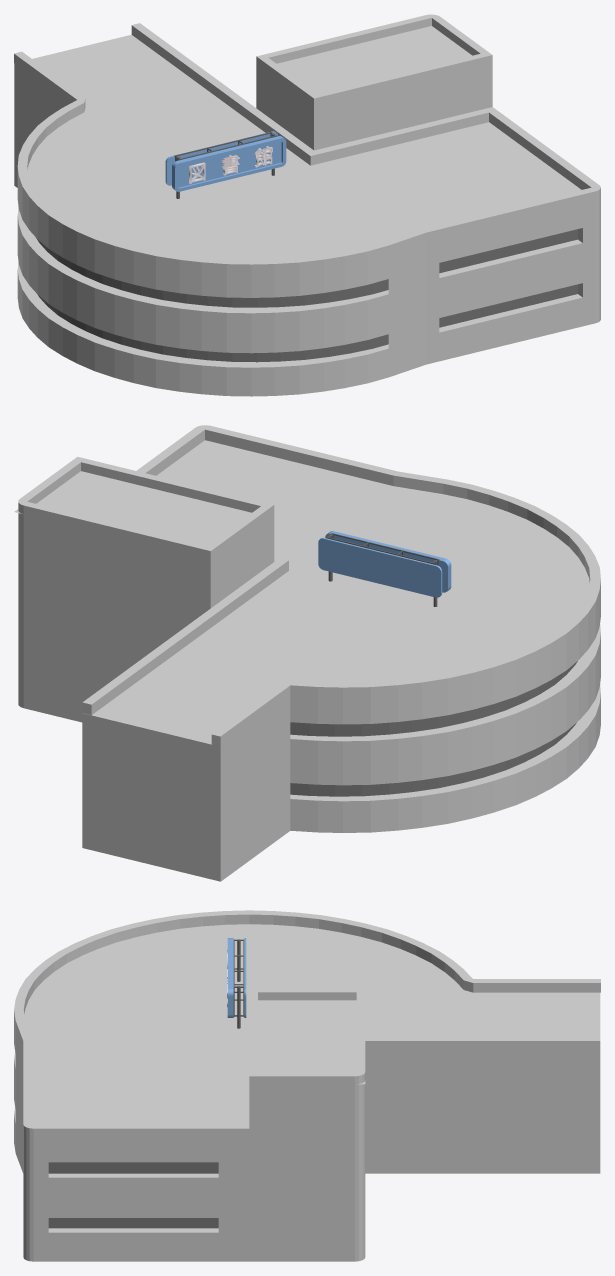
Rendered from map_library.glb.
3 views of the same model, one above another, from view 1: azimuth 30°, elevation 25°; view 2: azimuth 150°, elevation 25°; view 3: azimuth 270°, elevation 25° (orthographic). The views are drawn at different scales.
Visible parts, largest first — view 1: 図書館, Cube, テキスト.002, Cube.001; view 2: 図書館, Cube.001, Cube; view 3: 図書館, Cube.
Part boxes in pixels (<box>): 図書館: <box>14,14,600,396</box>; Cube: <box>172,136,286,191</box>; テキスト.002: <box>189,146,272,183</box>; Cube.001: <box>165,131,277,185</box>; 図書館: <box>14,425,600,881</box>; Cube.001: <box>318,537,442,597</box>; Cube: <box>325,531,451,592</box>; 図書館: <box>14,910,600,1261</box>; Cube: <box>227,938,233,1017</box>.
Size of the model in its own units: 33.91 by 13.42 by 38.54.
